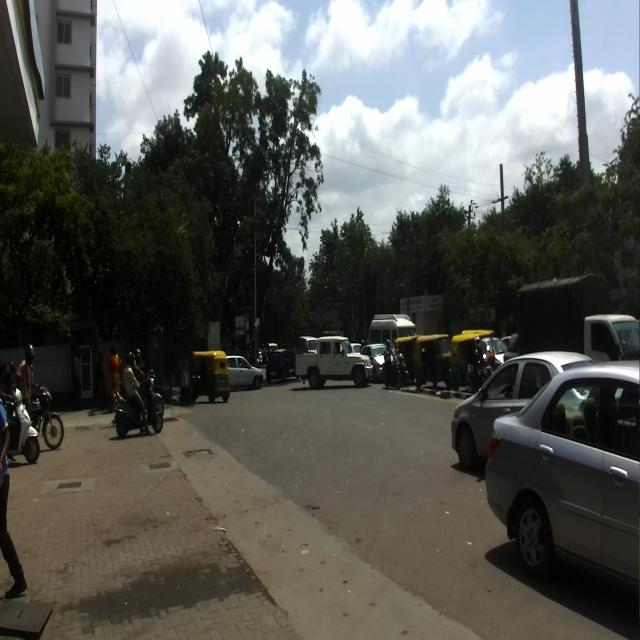Car_Toyota: (450, 349, 597, 472)
scooter: (112, 373, 163, 439), (0, 388, 40, 464)
truck: (295, 334, 374, 388)
